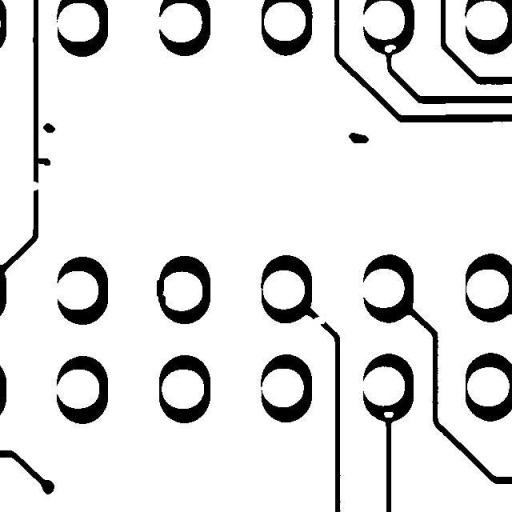copper: (341, 125, 376, 150), (36, 115, 62, 140)
open: (21, 174, 47, 198), (306, 309, 332, 332)
pin-hole: (377, 37, 403, 60), (376, 404, 401, 425)
short: (149, 268, 173, 313)
spur: (27, 150, 58, 173)
